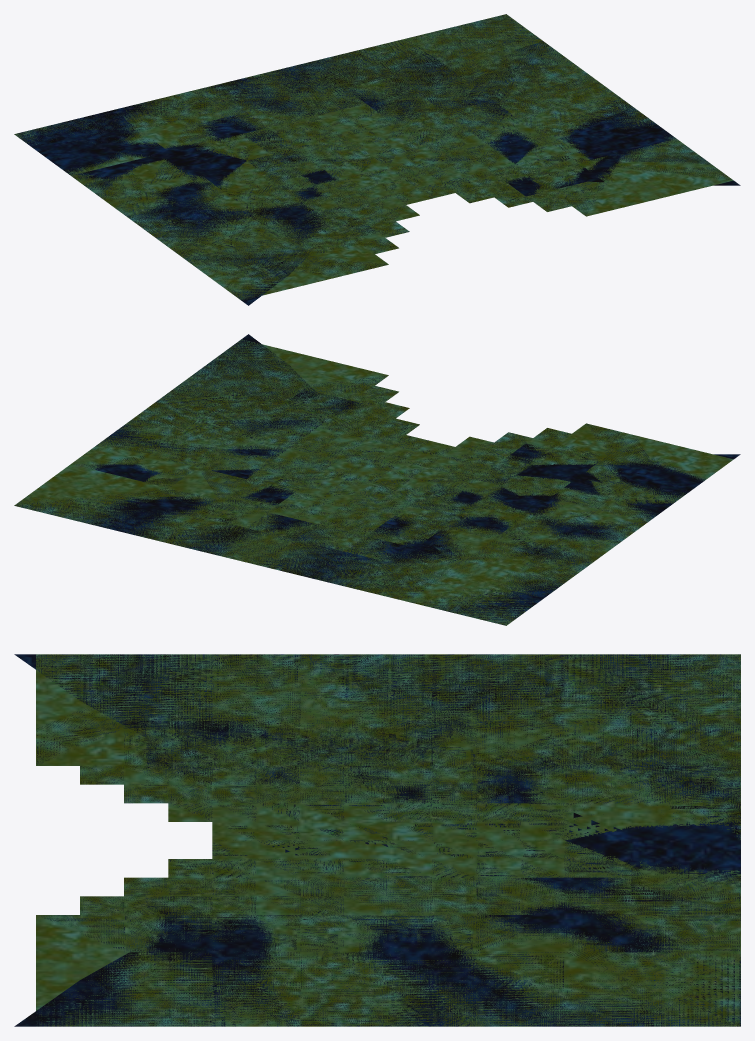
Rendered from seapatch.fbx.
3 renders of one model, top to bottom at view 1: azimuth 30°, elevation 25°; view 2: azimuth 150°, elevation 25°; view 3: azimuth 270°, elevation 25°, orthographic. The views are drawn at different scales.
Visible parts, largest first — view 1: o44, o45, o46, o47, o25, o30, o27, o28, o34, o26, o32, o33 (+1 smaller); view 2: o47, o44, o46, o45, o25, o27, o28, o30, o32, o34, o31, o26 (+1 smaller); view 3: o47, o45, o44, o46, o25, o30, o27, o28, o31, o32, o33, o34 (+1 smaller).
Boxes of the visible parts, x1=… form: o44: x1=260, y1=14, x2=619, y2=157; o45: x1=128, y1=157, x2=430, y2=300; o46: x1=374, y1=97, x2=733, y2=216; o47: x1=14, y1=74, x2=373, y2=217; o25: x1=15, y1=89, x2=336, y2=216; o30: x1=322, y1=14, x2=619, y2=154; o27: x1=128, y1=176, x2=376, y2=305; o28: x1=473, y1=98, x2=740, y2=196; o34: x1=261, y1=14, x2=617, y2=155; o26: x1=200, y1=59, x2=365, y2=126; o32: x1=376, y1=97, x2=730, y2=214; o33: x1=135, y1=158, x2=411, y2=275; o47: x1=260, y1=482, x2=619, y2=625; o44: x1=14, y1=422, x2=373, y2=565; o46: x1=128, y1=339, x2=430, y2=482; o45: x1=374, y1=423, x2=733, y2=542; o25: x1=323, y1=485, x2=618, y2=625; o27: x1=448, y1=443, x2=740, y2=541; o28: x1=128, y1=334, x2=365, y2=457; o30: x1=15, y1=423, x2=330, y2=550; o32: x1=131, y1=340, x2=428, y2=481; o34: x1=20, y1=424, x2=371, y2=564; o31: x1=261, y1=485, x2=615, y2=622; o26: x1=199, y1=512, x2=365, y2=580; o47: x1=388, y1=654, x2=740, y2=840; o45: x1=36, y1=654, x2=388, y2=840; o44: x1=388, y1=840, x2=740, y2=1026; o46: x1=36, y1=840, x2=388, y2=1026; o25: x1=344, y1=654, x2=740, y2=803; o30: x1=344, y1=877, x2=740, y2=1026; o27: x1=14, y1=654, x2=388, y2=784; o28: x1=14, y1=896, x2=388, y2=1026; o31: x1=389, y1=654, x2=740, y2=840; o32: x1=41, y1=840, x2=388, y2=1026; o33: x1=37, y1=654, x2=388, y2=839; o34: x1=388, y1=841, x2=740, y2=1026.
Size of the model in its own units: 40000 by 0.00538 by 33000.
Materials: 2 (2 with a texture image).
